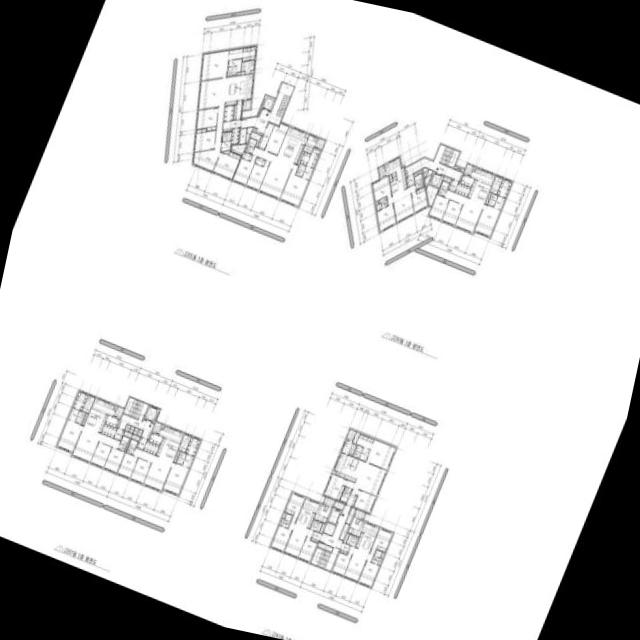background: (0, 0, 640, 640)
space_balconi: (314, 137, 324, 149), (463, 163, 473, 175), (378, 164, 385, 178), (241, 99, 250, 109)
space_bedroom: (279, 163, 308, 206), (365, 439, 394, 469), (200, 49, 228, 80), (162, 461, 188, 494), (212, 150, 241, 179), (56, 419, 82, 451), (474, 204, 499, 236), (264, 122, 288, 153), (245, 160, 269, 190), (232, 155, 256, 184), (323, 473, 347, 500), (284, 493, 304, 522), (369, 528, 391, 554), (428, 194, 449, 220), (441, 199, 462, 225), (116, 452, 137, 478), (129, 457, 150, 483), (376, 203, 395, 231), (193, 127, 215, 151), (270, 525, 291, 550), (90, 441, 110, 467), (371, 175, 391, 201), (358, 560, 378, 586), (195, 107, 217, 130), (353, 489, 375, 512), (103, 447, 123, 472), (298, 536, 316, 561), (410, 186, 427, 212), (331, 552, 351, 574), (241, 151, 252, 160), (254, 156, 265, 165)
space_dressroom: (496, 177, 511, 197), (72, 390, 87, 410), (185, 436, 200, 455), (355, 433, 373, 448), (306, 147, 319, 167), (241, 45, 255, 61), (299, 151, 309, 164)
space_elevator: (143, 405, 159, 422), (428, 171, 442, 187), (327, 507, 340, 524), (260, 95, 274, 110)
space_elevator_hall: (240, 82, 293, 134), (319, 504, 350, 554), (405, 157, 462, 180), (117, 413, 153, 438)
space_front: (257, 122, 273, 149), (100, 423, 116, 437), (222, 119, 240, 131), (143, 440, 158, 454), (223, 105, 233, 121), (230, 127, 239, 144), (447, 179, 458, 192), (339, 542, 349, 554), (310, 530, 320, 542), (113, 428, 123, 440), (136, 437, 146, 449), (346, 494, 356, 505), (405, 174, 414, 186)
space_kitchen: (347, 516, 378, 553), (276, 125, 306, 163), (83, 397, 114, 432), (295, 498, 331, 528), (155, 425, 183, 462), (467, 167, 495, 203), (224, 73, 253, 105), (384, 156, 406, 195), (334, 452, 363, 481), (104, 415, 118, 427), (148, 432, 162, 444)
space_living_room: (192, 77, 226, 171), (251, 146, 293, 198), (71, 426, 119, 462), (132, 447, 171, 490), (444, 189, 483, 232), (345, 461, 385, 495), (387, 184, 415, 222), (283, 521, 313, 556), (343, 545, 372, 580)
space_other: (302, 134, 317, 153), (81, 394, 94, 413), (489, 175, 502, 193), (177, 433, 190, 451), (426, 184, 437, 205), (341, 440, 356, 455), (454, 182, 470, 196), (240, 59, 254, 73), (232, 100, 242, 119), (322, 522, 335, 535), (459, 174, 473, 186), (338, 523, 348, 539), (345, 507, 355, 523), (317, 541, 332, 551), (250, 131, 260, 145), (231, 143, 245, 153), (424, 169, 432, 186), (239, 127, 246, 143), (245, 126, 252, 142), (333, 500, 343, 509), (297, 151, 303, 164), (352, 432, 359, 443), (81, 413, 87, 424), (318, 522, 324, 533), (485, 192, 491, 203), (173, 450, 179, 461), (413, 169, 422, 176), (422, 167, 428, 177), (453, 165, 463, 171), (343, 532, 348, 542), (123, 431, 131, 437), (442, 176, 450, 182), (131, 434, 139, 440), (132, 427, 138, 434), (128, 426, 134, 432), (136, 429, 142, 435), (124, 424, 130, 430), (256, 108, 261, 115), (281, 512, 285, 518), (236, 71, 244, 74), (388, 174, 391, 181), (222, 150, 229, 153), (304, 132, 308, 137), (380, 552, 384, 557), (323, 506, 327, 510), (160, 424, 164, 428), (252, 127, 256, 131), (472, 166, 475, 170), (355, 519, 358, 523), (332, 470, 335, 474), (374, 200, 377, 204), (250, 69, 253, 72)
space_outdoor_room: (322, 496, 334, 507), (345, 428, 356, 440), (353, 509, 365, 519), (151, 421, 161, 433), (113, 406, 123, 418)
space_staircase: (310, 547, 336, 570), (433, 144, 459, 166), (123, 397, 148, 419), (275, 94, 289, 117)
space_toilet: (487, 192, 504, 209), (352, 444, 369, 460), (226, 58, 241, 75), (339, 486, 351, 502), (117, 435, 129, 451), (125, 438, 137, 454), (244, 137, 256, 153), (279, 513, 292, 527), (437, 180, 448, 196), (345, 533, 358, 546), (181, 453, 193, 467), (228, 47, 242, 59), (413, 173, 423, 189), (68, 407, 79, 421), (376, 196, 387, 210), (301, 165, 312, 179), (371, 549, 381, 564), (309, 519, 321, 531), (220, 140, 230, 150), (295, 168, 303, 176), (77, 410, 85, 418), (175, 456, 183, 464), (74, 416, 83, 423), (177, 451, 186, 458), (297, 163, 305, 170), (221, 131, 226, 141), (226, 131, 231, 140)
